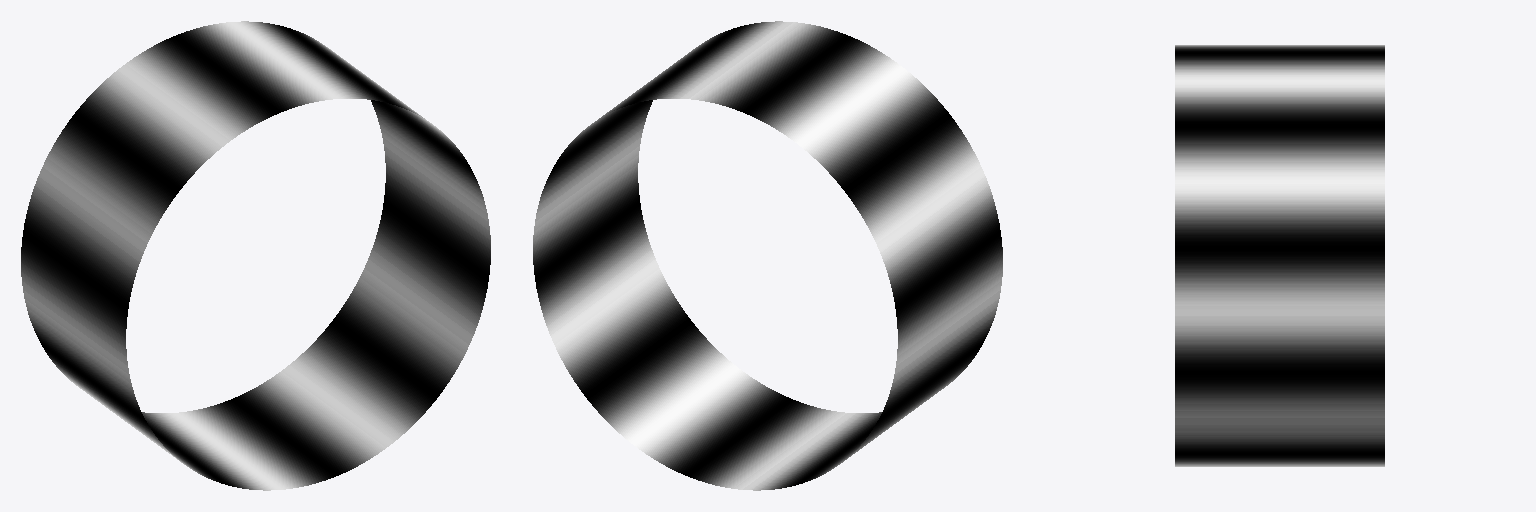
The picture shows the model from 3 angles: view 1: azimuth 30°, elevation 25°; view 2: azimuth 150°, elevation 25°; view 3: azimuth 270°, elevation 25°; orthographic projection.
Size of the model in its own units: 2 by 2 by 1.
Materials: 1 (1 with a texture image).